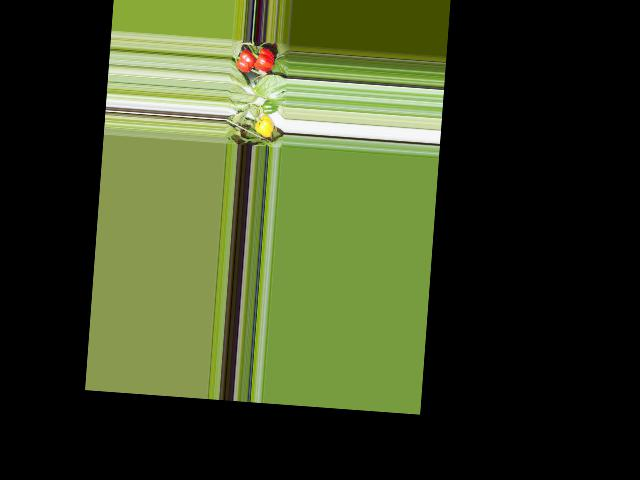bell_pepper: (253, 113, 276, 140)
